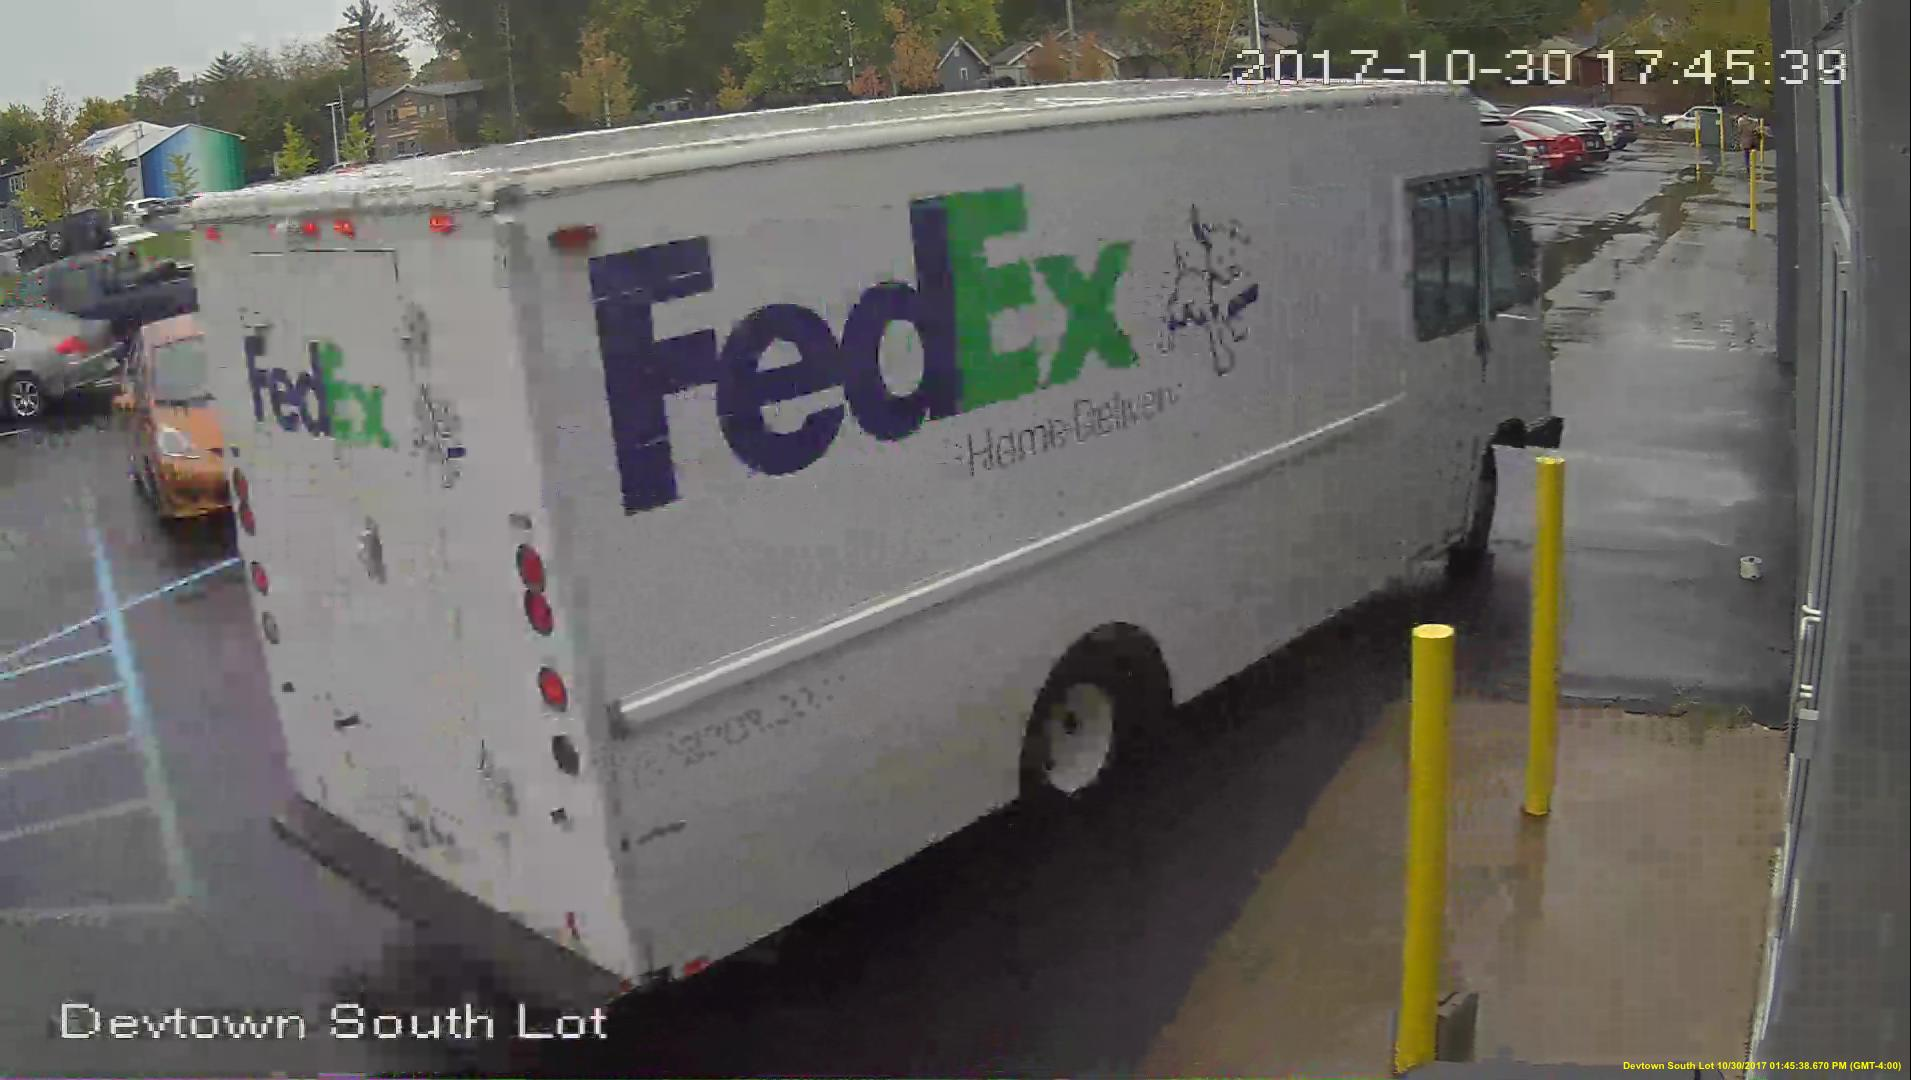fedex_truck: (192, 42, 1564, 1020)
